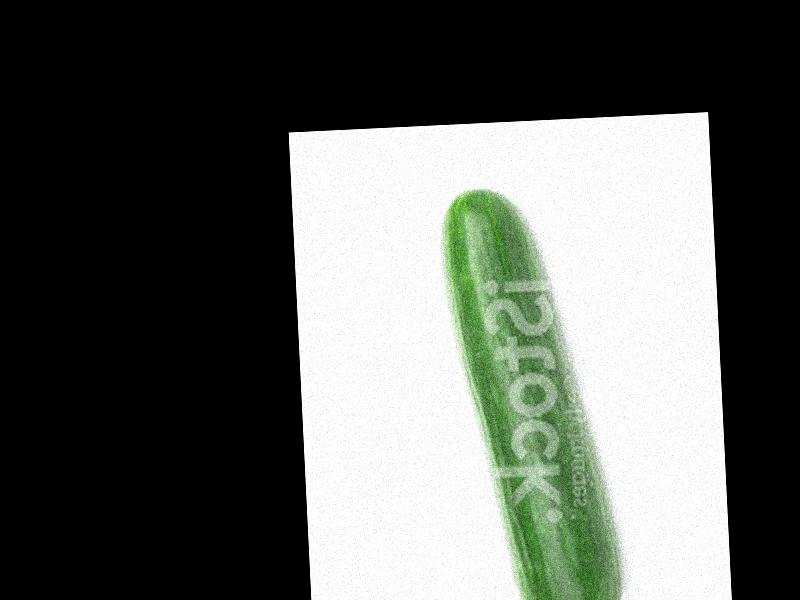Cucumber: (439, 181, 623, 600)
